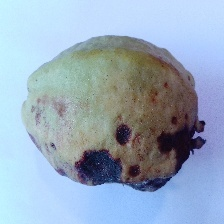guava: (24, 29, 209, 186)
